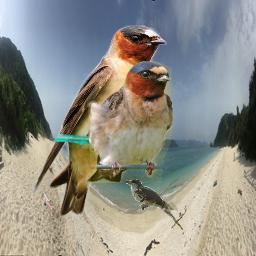Cuckoo: (124, 179, 183, 230)
Swallow: (32, 25, 167, 217), (86, 61, 176, 183)
